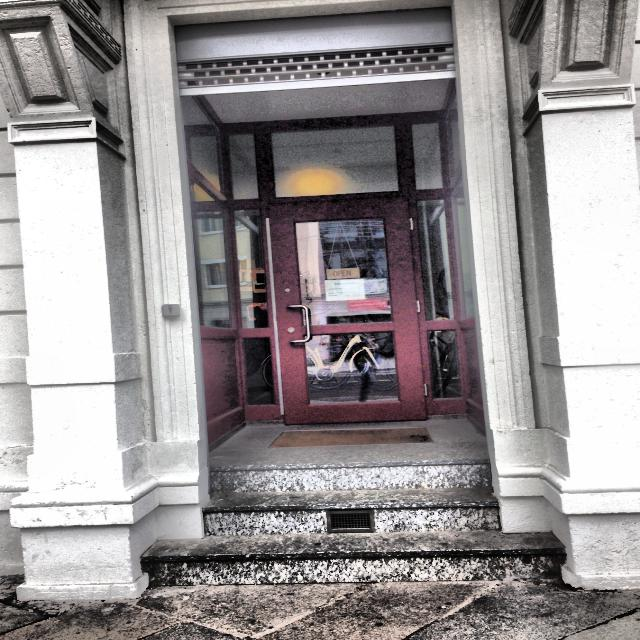escada: (141, 459, 566, 584)
